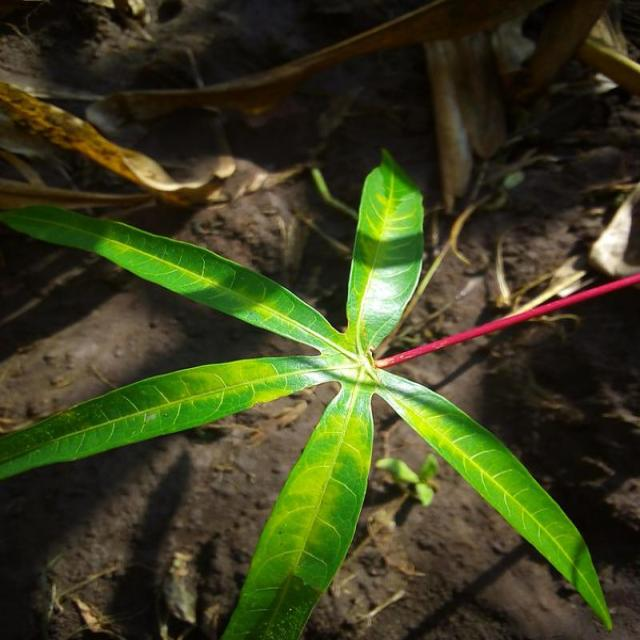cassava leaf: (2, 147, 614, 637), (221, 380, 376, 638), (345, 147, 426, 355)
